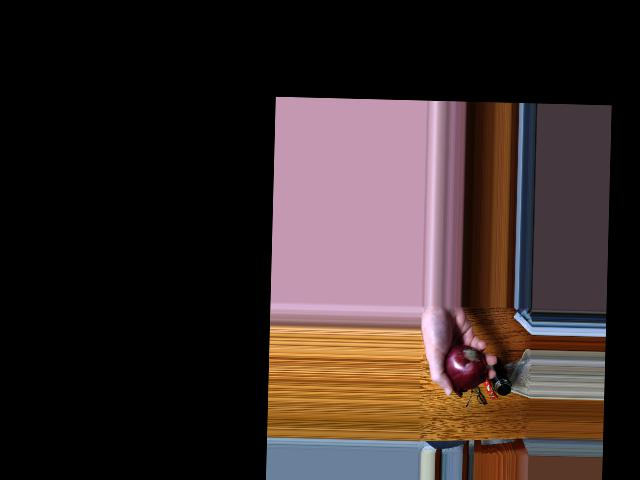onion: (444, 346, 485, 388)
